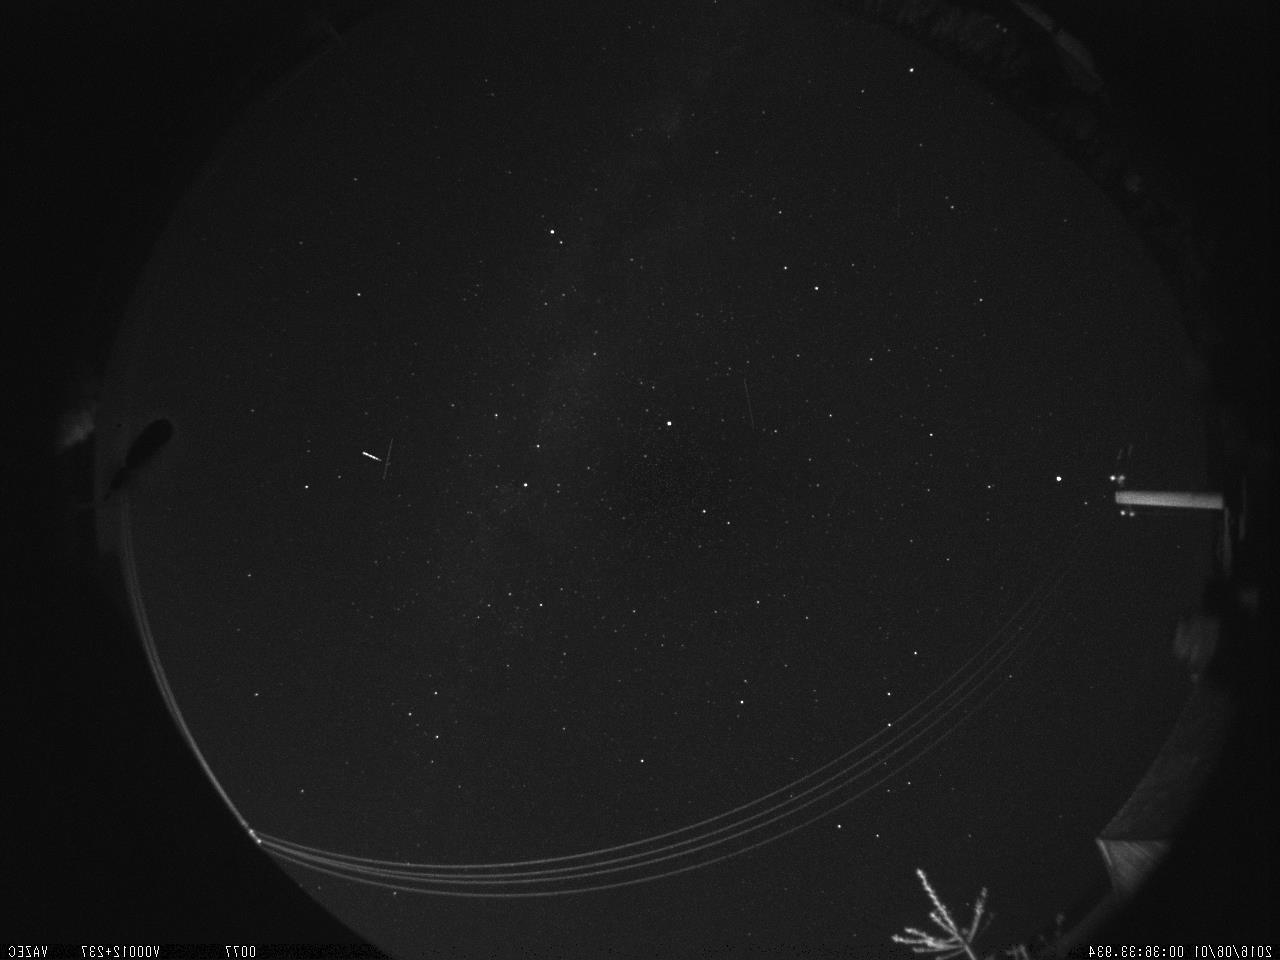meteor: (352, 443, 384, 470)
